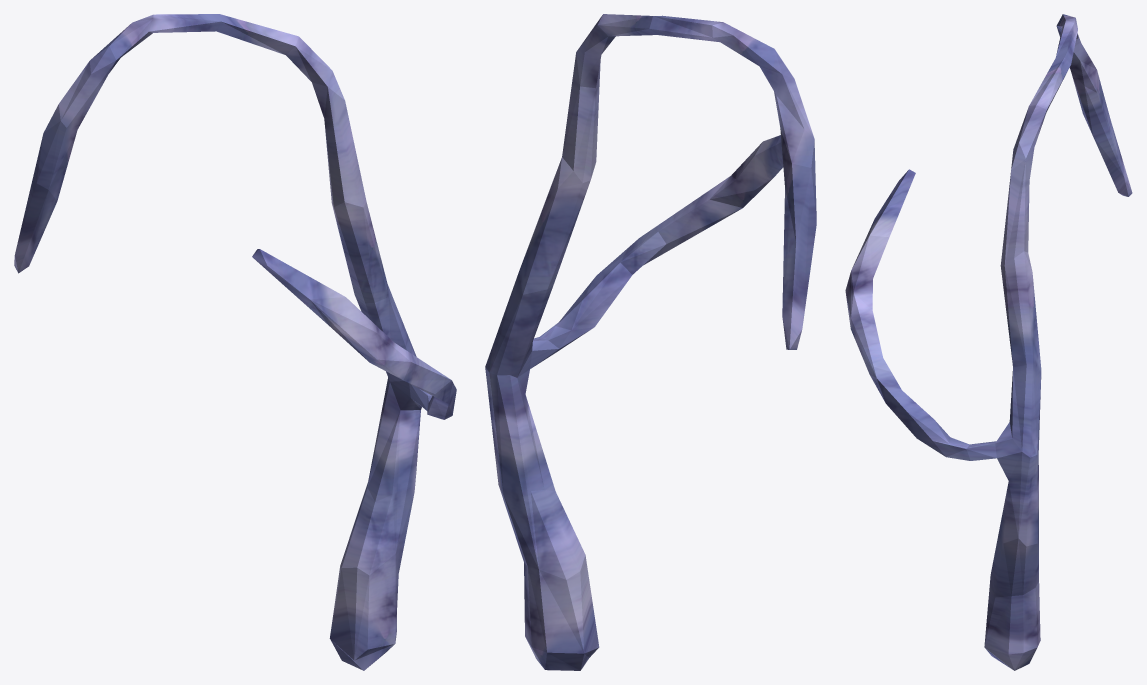
File: SnowCreature_3.gltf
3 renders of one model, left to right at view 1: azimuth 30°, elevation 25°; view 2: azimuth 150°, elevation 25°; view 3: azimuth 270°, elevation 25°, orthographic. The views are drawn at different scales.
Visible parts, largest first — view 1: SnowCreature_3; view 2: SnowCreature_3; view 3: SnowCreature_3.
Boxes of the visible parts, x1,y1,x2,y2 form: SnowCreature_3: (14,14,456,670); SnowCreature_3: (485,14,816,670); SnowCreature_3: (845,14,1132,670).
Bounding box in the file's own units: 14.48 × 26.35 × 12.12.
Materials: 1 (1 with a texture image).
